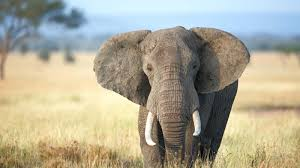elephant: (81, 19, 266, 165)
